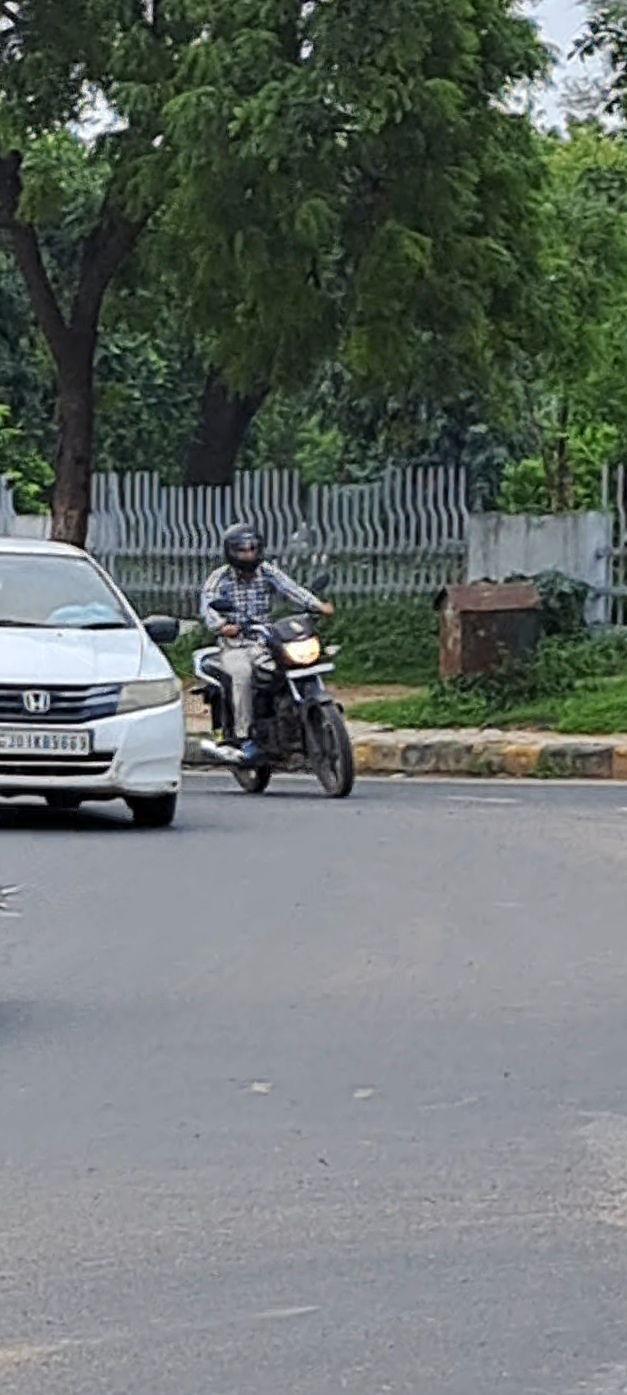BikeWithRider: (188, 518, 364, 800)
Helmet: (215, 518, 270, 576)
